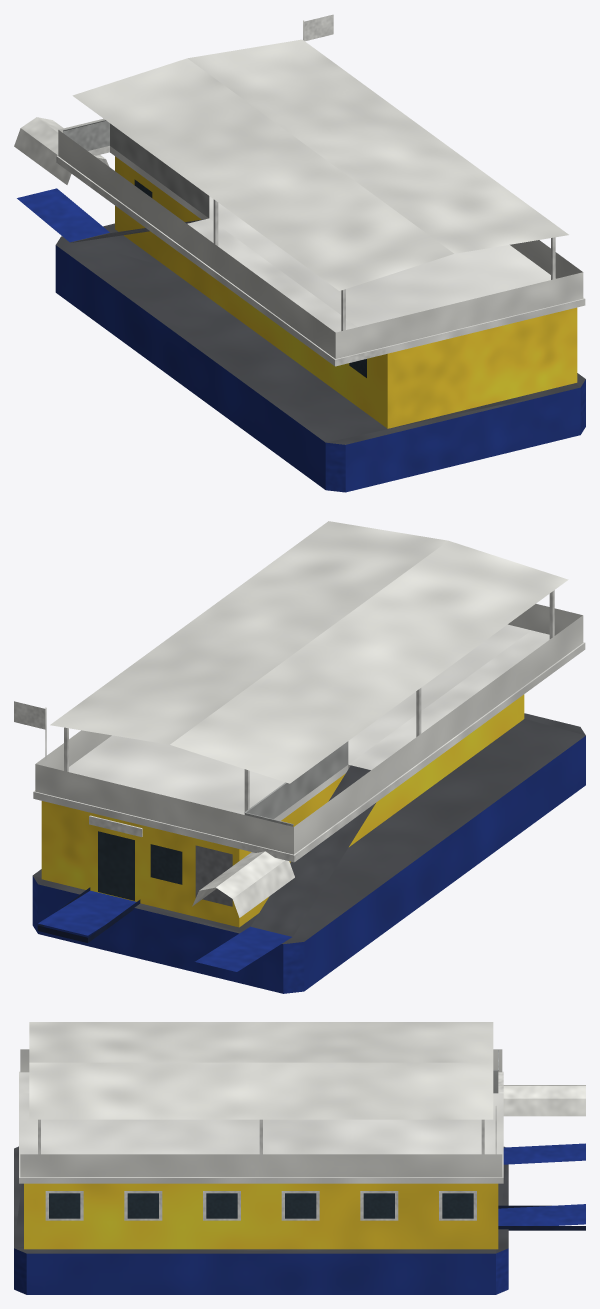
The model's file is SM_MoloItalia_RistorantePiccioni_v2_LOD2.fbx.
3 views of the same model, one above another, from view 1: azimuth 30°, elevation 25°; view 2: azimuth 150°, elevation 25°; view 3: azimuth 270°, elevation 25° (orthographic). The views are drawn at different scales.
Visible parts, largest first — view 1: SM_MoloItalia_RistorantePiccioni_v2_LOD2; view 2: SM_MoloItalia_RistorantePiccioni_v2_LOD2; view 3: SM_MoloItalia_RistorantePiccioni_v2_LOD2.
Part boxes in pixels (x1,y1,x2,y2): SM_MoloItalia_RistorantePiccioni_v2_LOD2: (14, 14, 585, 492); SM_MoloItalia_RistorantePiccioni_v2_LOD2: (14, 521, 585, 993); SM_MoloItalia_RistorantePiccioni_v2_LOD2: (14, 1022, 585, 1294).
Size of the model in its own units: 1100 by 2255 by 800.
Materials: 1 (1 with a texture image).
